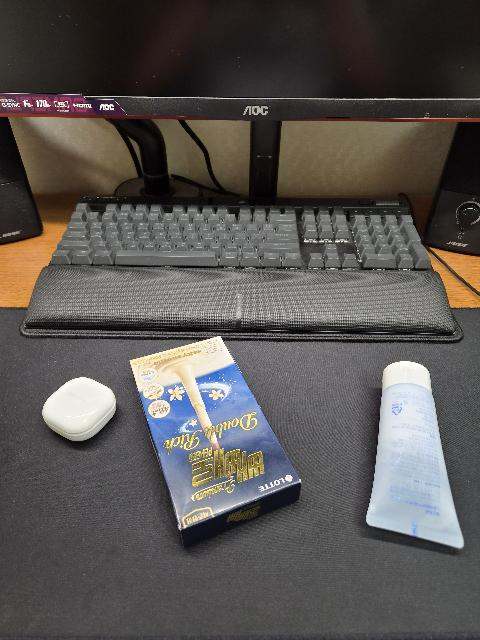earphone_case: (42, 377, 117, 441)
handcream: (366, 361, 464, 548)
pepero: (129, 336, 302, 548)
